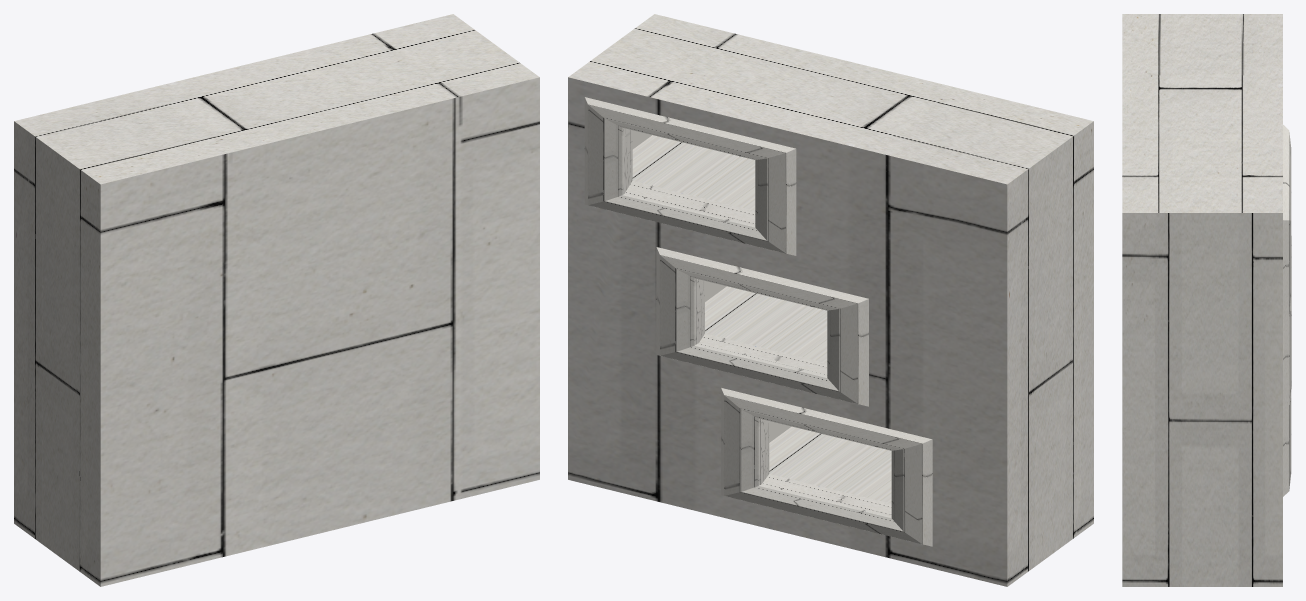
Rendered from big_oven_2.fbx.
The picture shows the model from 3 angles, left to right: view 1: azimuth 30°, elevation 25°; view 2: azimuth 150°, elevation 25°; view 3: azimuth 270°, elevation 25°; orthographic projection. The views are drawn at different scales.
Parts seen in each view (by area): view 1: BigOven.001; view 2: BigOven.001; view 3: BigOven.001.
Part boxes in pixels (<box>): BigOven.001: <box>14,14,539,586</box>; BigOven.001: <box>568,14,1093,586</box>; BigOven.001: <box>1122,14,1291,586</box>.
Size of the model in its own units: 105 by 293 by 256.
